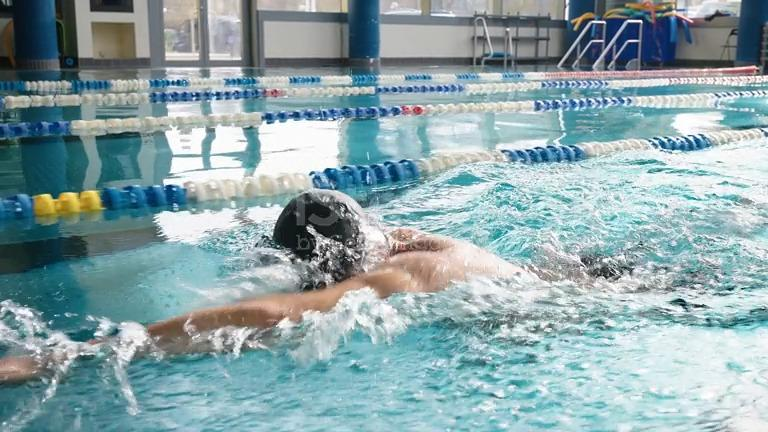Swimming: (23, 78, 663, 369)
